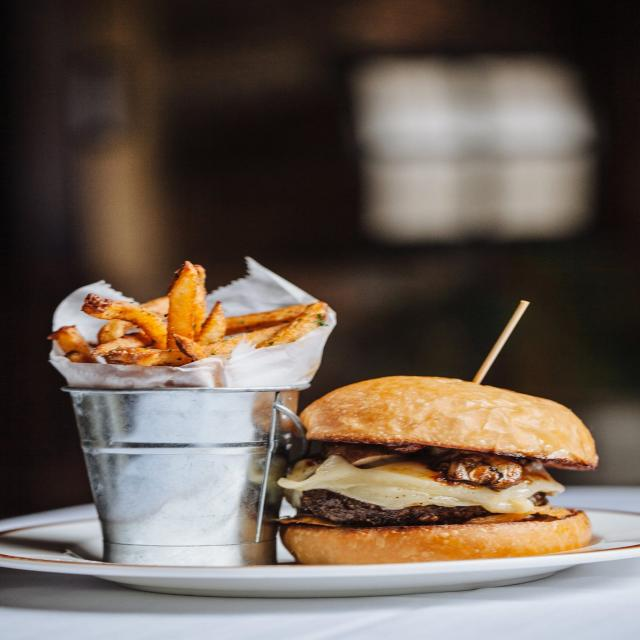Burger: (303, 364, 610, 570)
